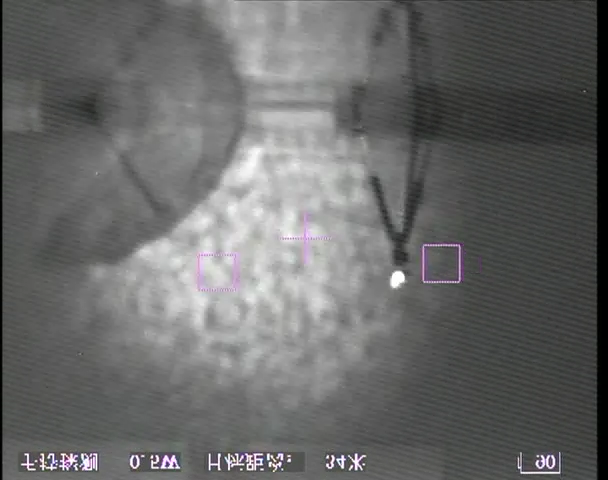my: (389, 269, 406, 288)
